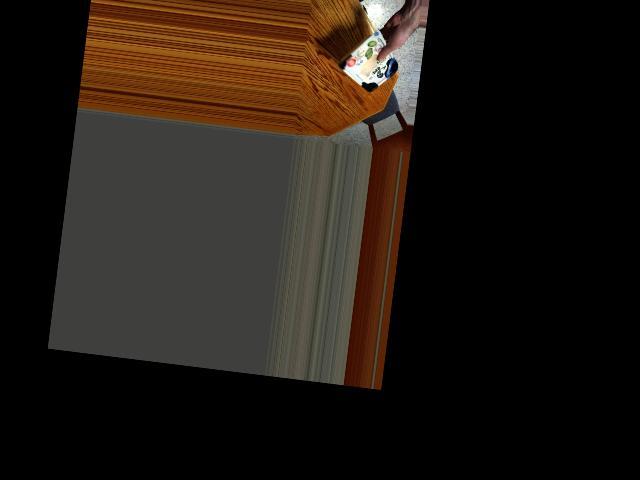cheese: (344, 32, 393, 93)
